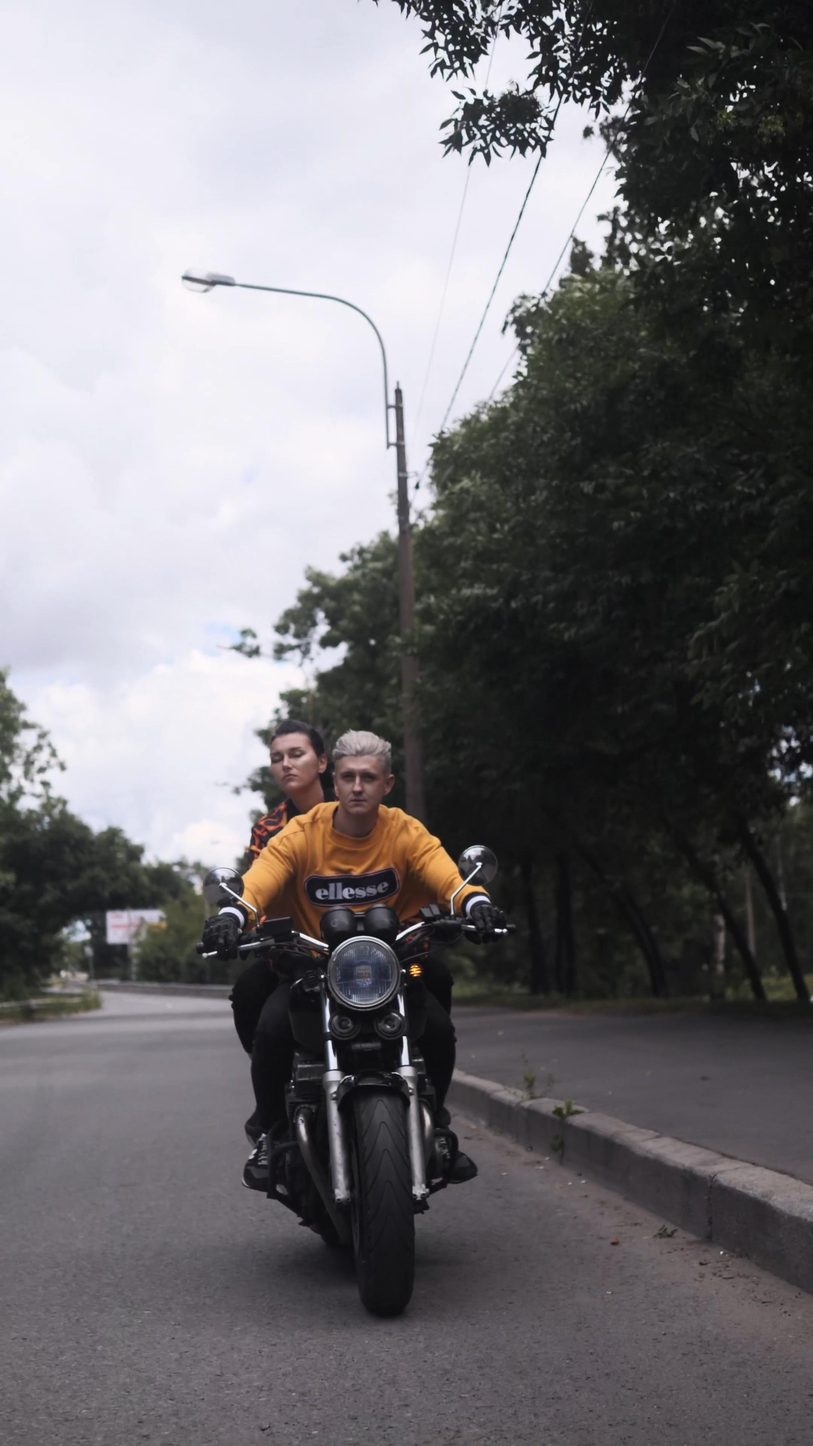driver: (196, 718, 518, 1319)
no-helmet: (332, 728, 395, 815), (270, 718, 327, 792)
